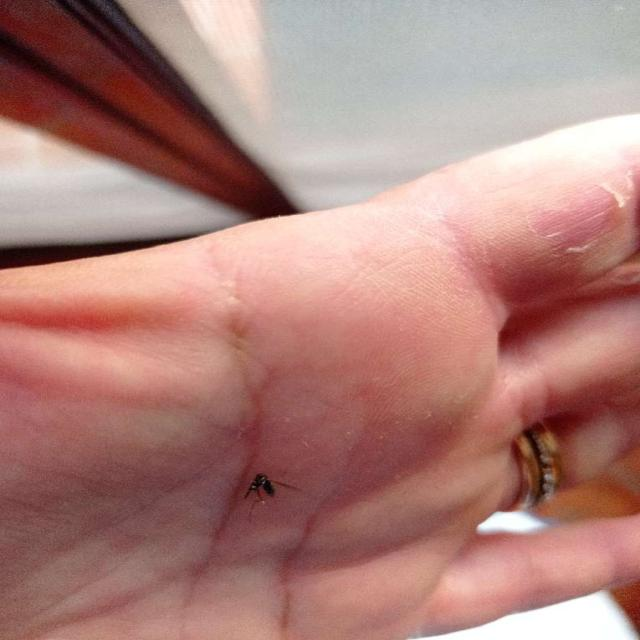albopictus: (222, 460, 313, 523)
